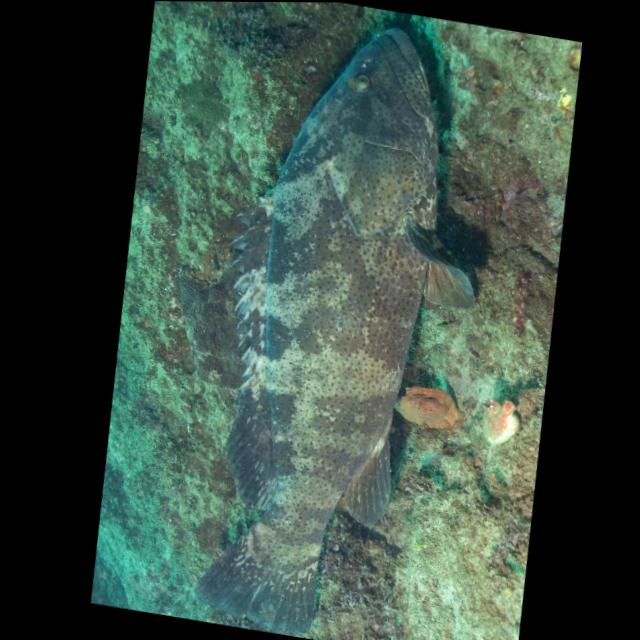Groupers: (133, 1, 541, 640)
